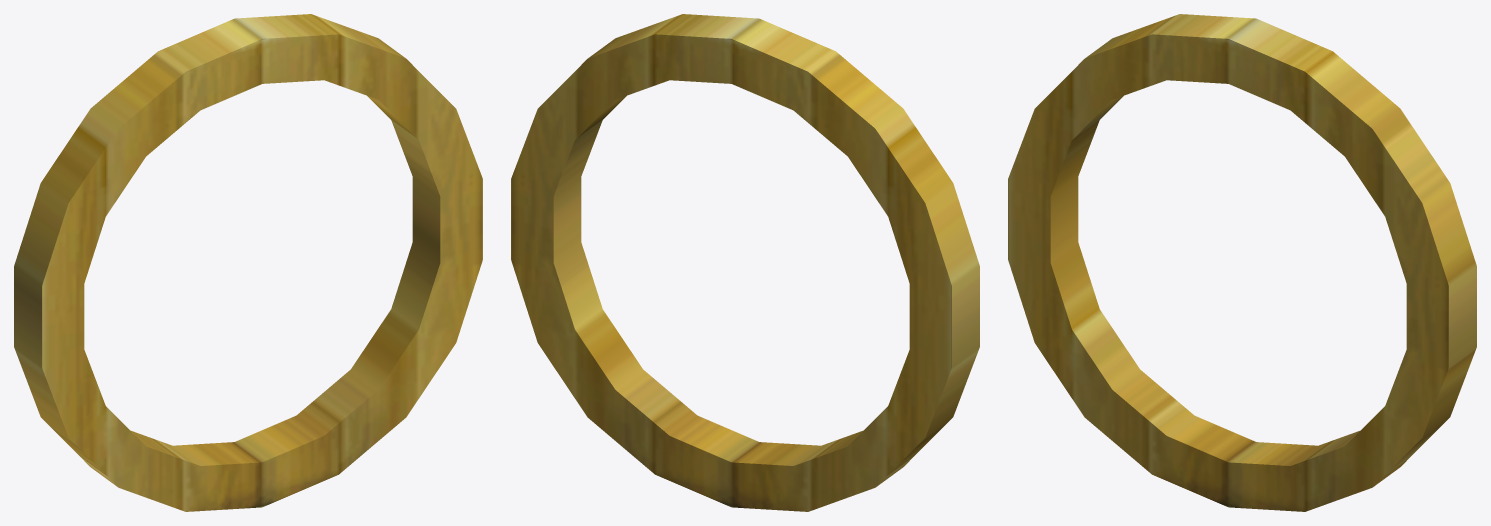
Rendered from HTOWN01_MILLDOORWAY01.fbx.
3 renders of one model, left to right at view 1: azimuth 30°, elevation 25°; view 2: azimuth 150°, elevation 25°; view 3: azimuth 330°, elevation 25°, orthographic.
Visible parts, largest first — view 1: HTOWN01_MILLDOORWAY01; view 2: HTOWN01_MILLDOORWAY01; view 3: HTOWN01_MILLDOORWAY01.
Part boxes in pixels (bbox=[...]): HTOWN01_MILLDOORWAY01: bbox=[14, 14, 482, 511]; HTOWN01_MILLDOORWAY01: bbox=[511, 14, 979, 511]; HTOWN01_MILLDOORWAY01: bbox=[1008, 14, 1476, 511].
Bounding box in the file's own units: 29692 × 30150 × 3244.
Materials: 1 (1 with a texture image).
